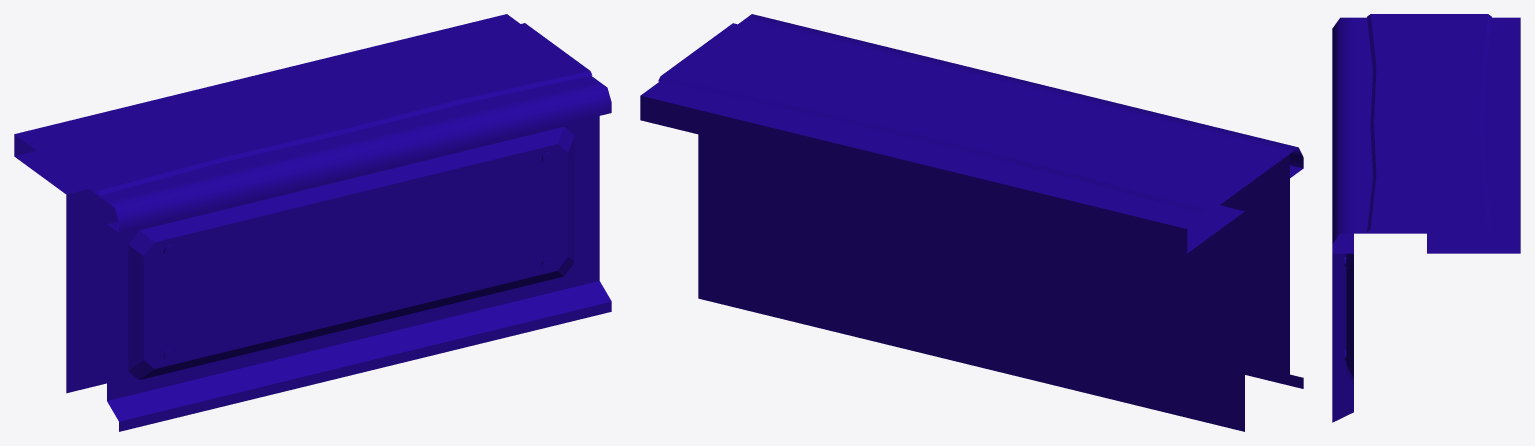
Rendered from CG_Model_TownInt_CounterStraight_Mar24_ChrisMcknight.FBX.
3 views of the same model, side by side, from view 1: azimuth 30°, elevation 25°; view 2: azimuth 150°, elevation 25°; view 3: azimuth 270°, elevation 25° (orthographic). The views are drawn at different scales.
Visible parts, largest first — view 1: Box040; view 2: Box040; view 3: Box040.
Part boxes in pixels (x1,y1,x2,y2): Box040: (14,14,611,431); Box040: (640,14,1303,431); Box040: (1332,14,1520,422).
Size of the model in its own units: 44.76 by 19.55 by 16.5.
